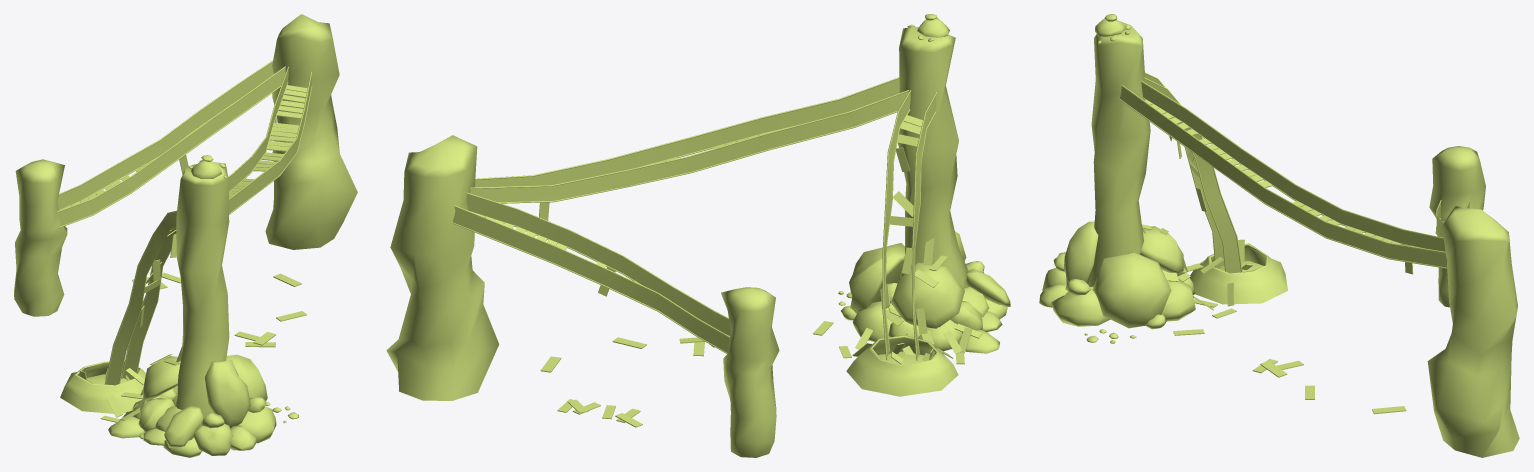
The model's file is Bridge_mesh.fbx.
3 renders of one model, left to right at view 1: azimuth 30°, elevation 25°; view 2: azimuth 150°, elevation 25°; view 3: azimuth 270°, elevation 25°, orthographic. The views are drawn at different scales.
Parts seen in each view (by area): view 1: Bridge; view 2: Bridge; view 3: Bridge.
Part boxes in pixels (x1,y1,x2,y2): Bridge: (14,14,357,457); Bridge: (386,14,1010,457); Bridge: (1039,14,1519,457).
Size of the model in its own units: 33.18 by 22.4 by 33.84.
